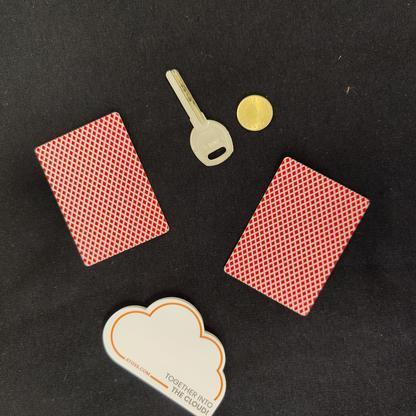card: (21, 100, 176, 278), (221, 158, 378, 328)
